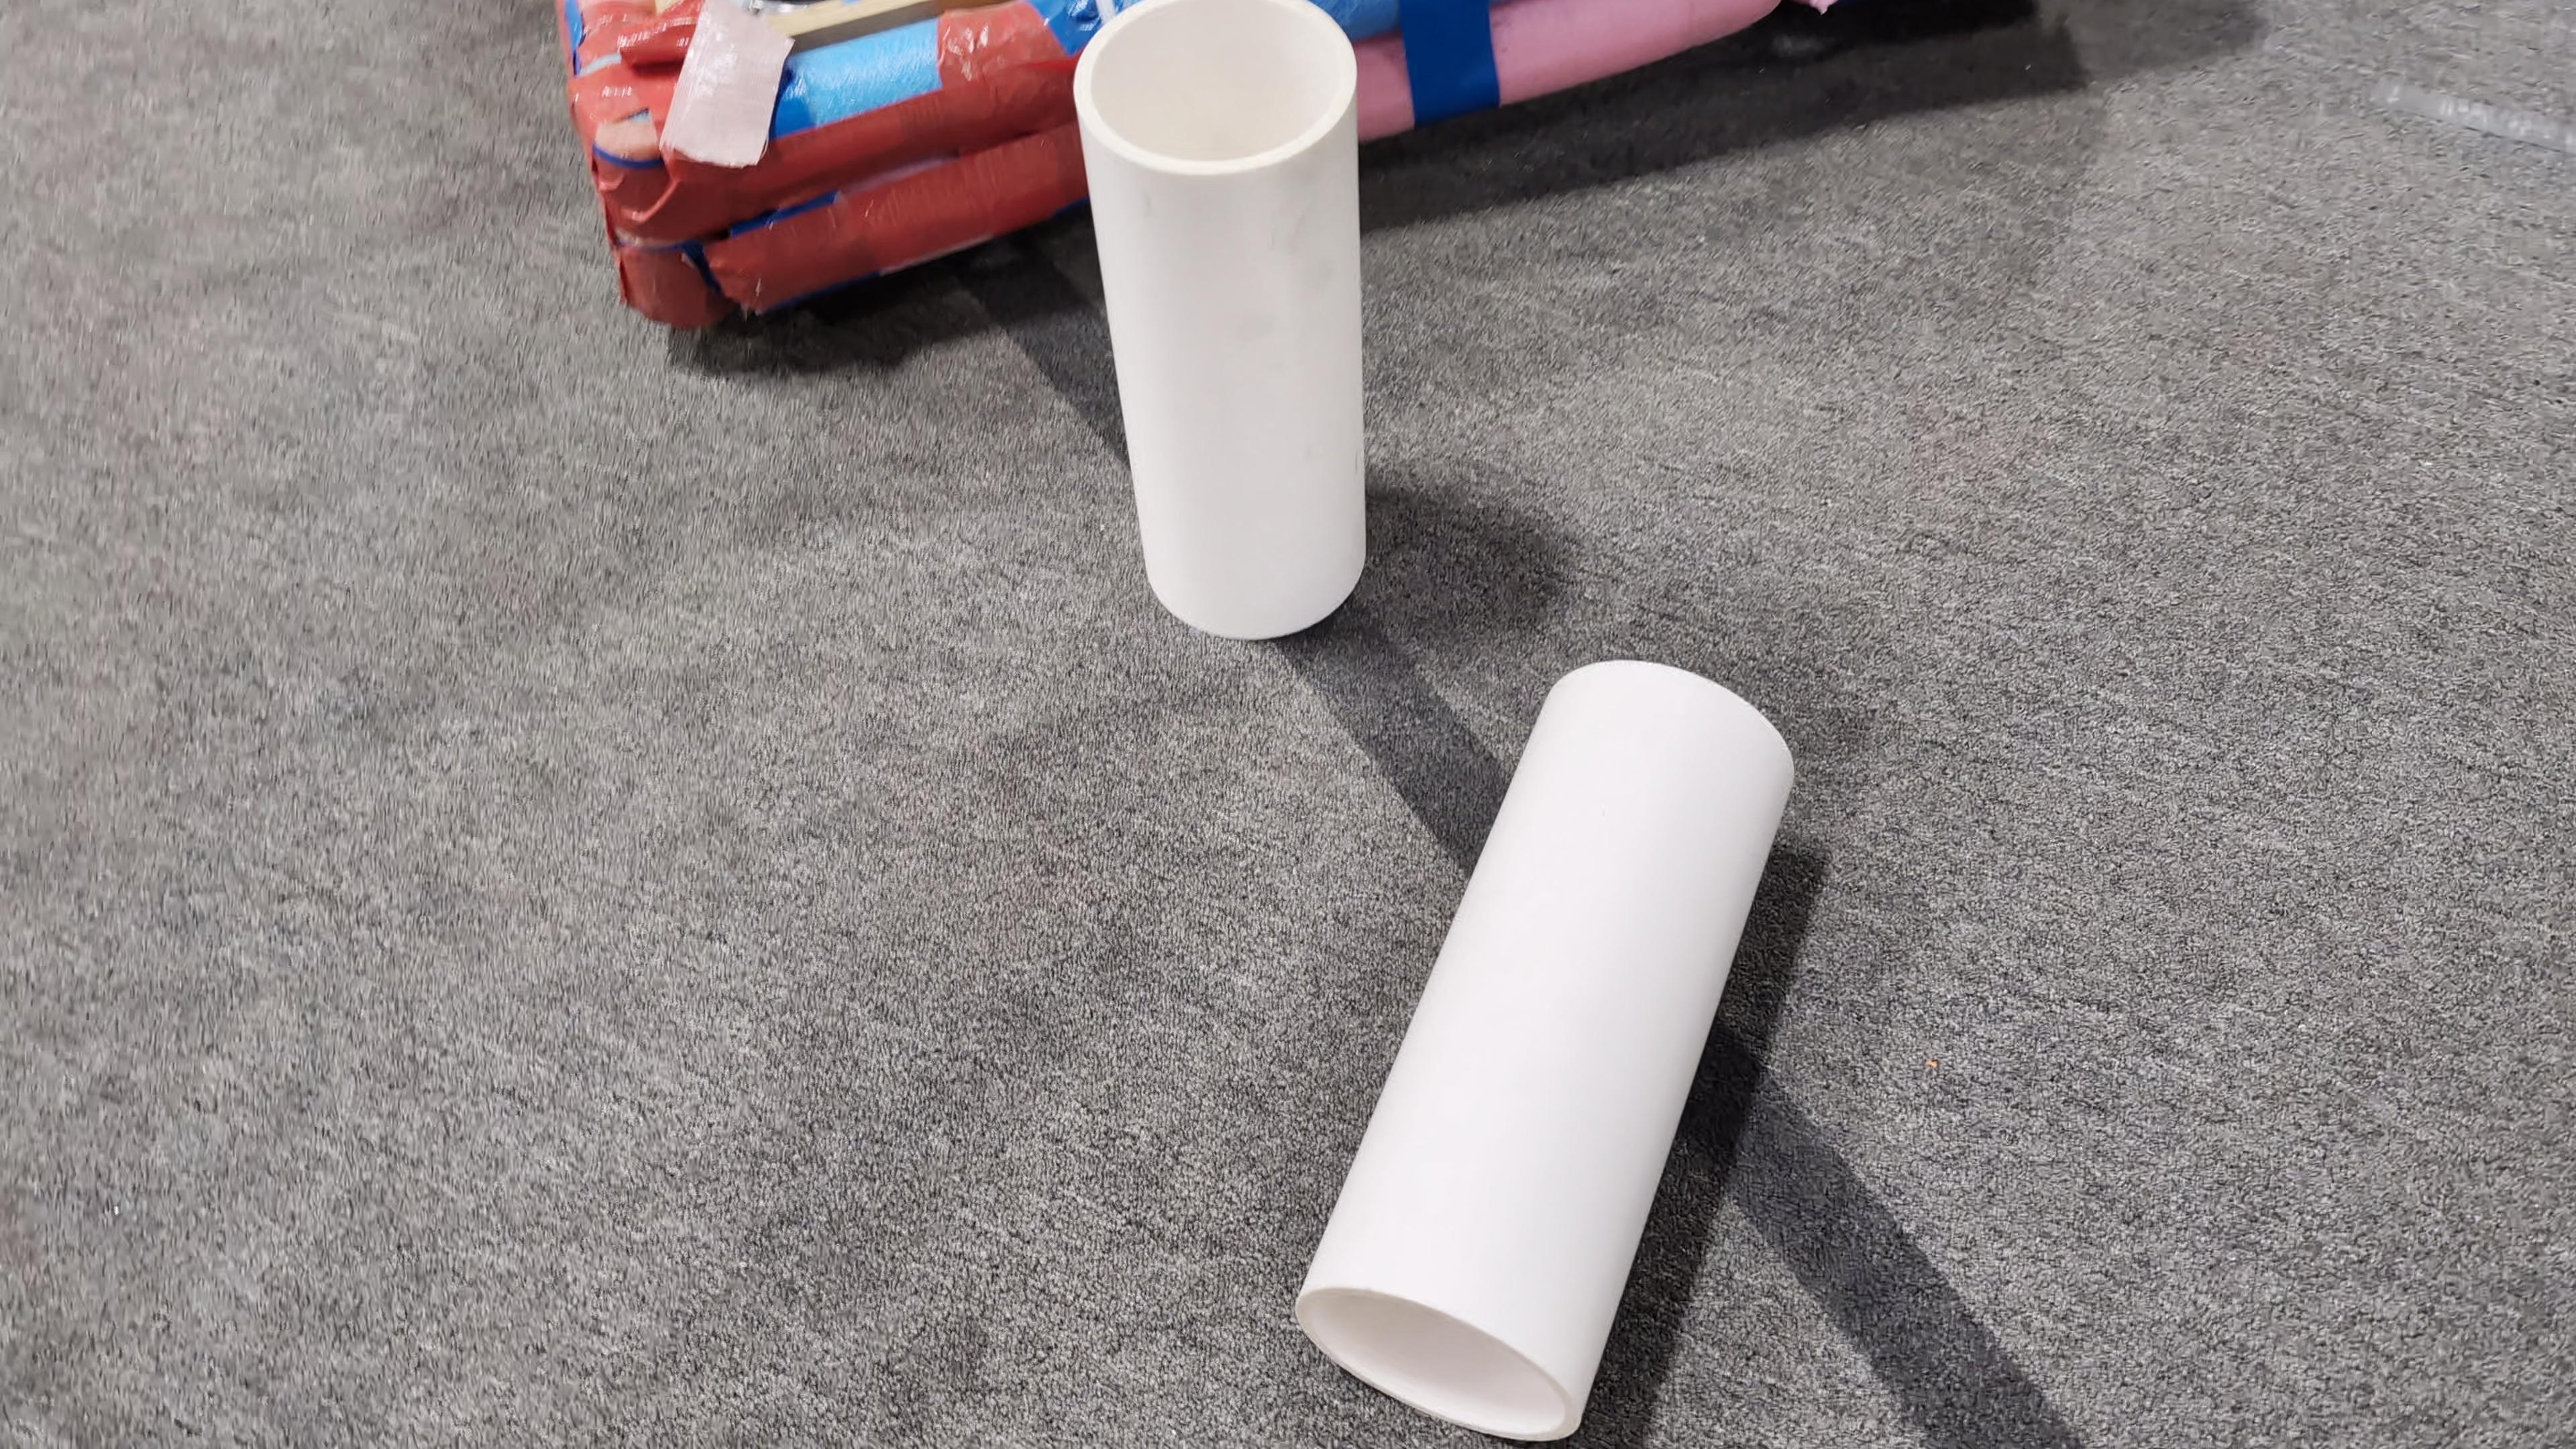coral: (1290, 651, 1801, 1437), (1070, 0, 1371, 639)
